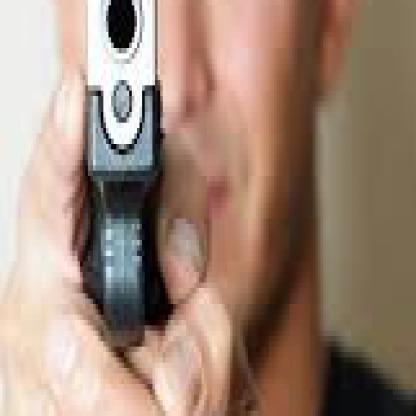gun: (85, 0, 174, 406)
